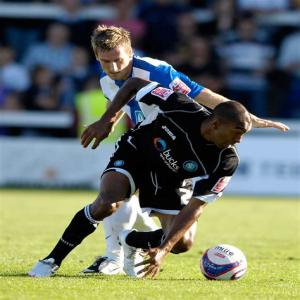Football: (198, 242, 248, 283)
